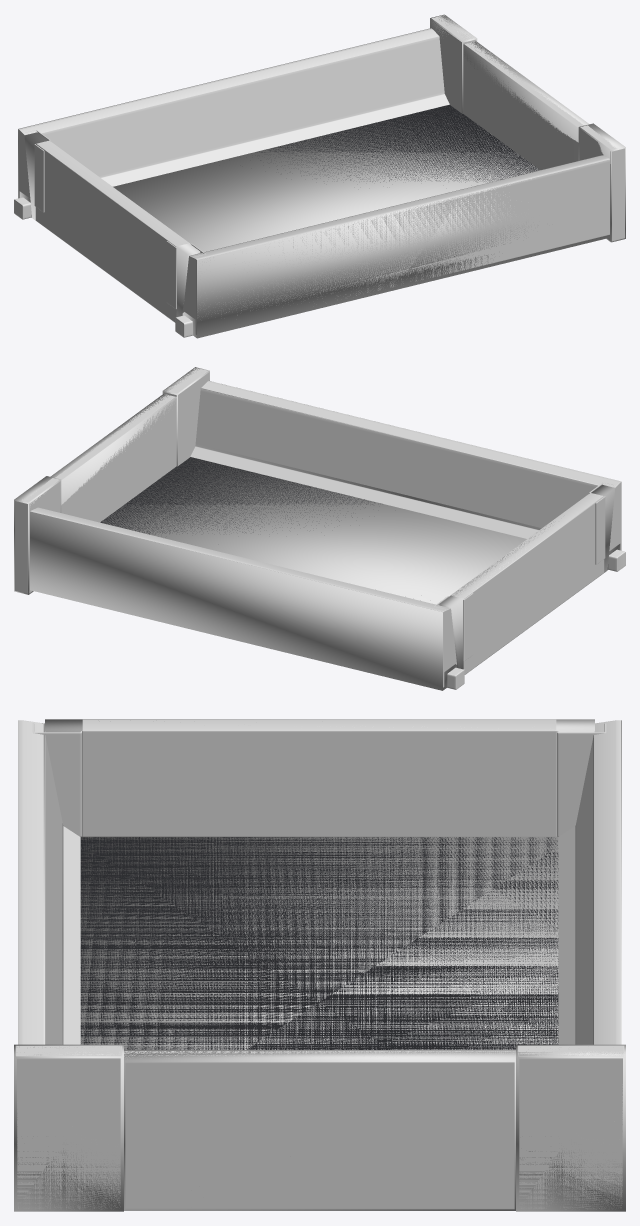
File: Kitchen02Drawer01.fbx
The picture shows the model from 3 angles, top to bottom: view 1: azimuth 30°, elevation 25°; view 2: azimuth 150°, elevation 25°; view 3: azimuth 270°, elevation 25°; orthographic projection. The views are drawn at different scales.
Visible parts, largest first — view 1: Kitchen02Drawer_01, Kitchen02Drawe01UCX_Kitchen_02_Drawer_01_006, Kitchen02Drawe01UCX_Kitchen_02_Drawer_01_005, Kitchen02Drawe01UCX_Kitchen_02_Drawer_01_001, Kitchen02Drawe01UCX_Kitchen_02_Drawer_01_003, Kitchen02Drawe01UCX_Kitchen_02_Drawer_01_004, Kitchen02Drawe01UCX_Kitchen_02_Drawer_01_002, Kitchen02Drawe01UCX_Kitchen_02_Drawer_01_007; view 2: Kitchen02Drawer_01, Kitchen02Drawe01UCX_Kitchen_02_Drawer_01_007, Kitchen02Drawe01UCX_Kitchen_02_Drawer_01_006, Kitchen02Drawe01UCX_Kitchen_02_Drawer_01_001, Kitchen02Drawe01UCX_Kitchen_02_Drawer_01_003, Kitchen02Drawe01UCX_Kitchen_02_Drawer_01_005, Kitchen02Drawe01UCX_Kitchen_02_Drawer_01_002; view 3: Kitchen02Drawer_01, Kitchen02Drawe01UCX_Kitchen_02_Drawer_01_006, Kitchen02Drawe01UCX_Kitchen_02_Drawer_01_001, Kitchen02Drawe01UCX_Kitchen_02_Drawer_01_002, Kitchen02Drawe01UCX_Kitchen_02_Drawer_01_004, Kitchen02Drawe01UCX_Kitchen_02_Drawer_01_003, Kitchen02Drawe01UCX_Kitchen_02_Drawer_01_005.
Part boxes in pixels (x1=…): Kitchen02Drawer_01: x1=14, y1=15, x2=624, y2=337; Kitchen02Drawe01UCX_Kitchen_02_Drawer_01_006: x1=113, y1=107, x2=539, y2=252; Kitchen02Drawe01UCX_Kitchen_02_Drawer_01_005: x1=182, y1=155, x2=609, y2=338; Kitchen02Drawe01UCX_Kitchen_02_Drawer_01_001: x1=463, y1=41, x2=589, y2=142; Kitchen02Drawe01UCX_Kitchen_02_Drawer_01_003: x1=24, y1=132, x2=200, y2=317; Kitchen02Drawe01UCX_Kitchen_02_Drawer_01_004: x1=578, y1=123, x2=625, y2=242; Kitchen02Drawe01UCX_Kitchen_02_Drawer_01_002: x1=430, y1=14, x2=477, y2=113; Kitchen02Drawe01UCX_Kitchen_02_Drawer_01_007: x1=18, y1=28, x2=430, y2=217; Kitchen02Drawer_01: x1=15, y1=368, x2=625, y2=689; Kitchen02Drawe01UCX_Kitchen_02_Drawer_01_007: x1=30, y1=511, x2=457, y2=690; Kitchen02Drawe01UCX_Kitchen_02_Drawer_01_006: x1=100, y1=457, x2=526, y2=604; Kitchen02Drawe01UCX_Kitchen_02_Drawer_01_001: x1=50, y1=394, x2=176, y2=504; Kitchen02Drawe01UCX_Kitchen_02_Drawer_01_003: x1=439, y1=484, x2=615, y2=670; Kitchen02Drawe01UCX_Kitchen_02_Drawer_01_005: x1=195, y1=388, x2=620, y2=569; Kitchen02Drawe01UCX_Kitchen_02_Drawer_01_002: x1=14, y1=476, x2=61, y2=594; Kitchen02Drawer_01: x1=15, y1=719, x2=624, y2=1209; Kitchen02Drawe01UCX_Kitchen_02_Drawer_01_006: x1=80, y1=836, x2=558, y2=1049; Kitchen02Drawe01UCX_Kitchen_02_Drawer_01_001: x1=124, y1=1050, x2=515, y2=1210; Kitchen02Drawe01UCX_Kitchen_02_Drawer_01_002: x1=516, y1=1044, x2=625, y2=1211; Kitchen02Drawe01UCX_Kitchen_02_Drawer_01_004: x1=14, y1=1044, x2=123, y2=1211; Kitchen02Drawe01UCX_Kitchen_02_Drawer_01_003: x1=45, y1=719, x2=594, y2=732; Kitchen02Drawe01UCX_Kitchen_02_Drawer_01_005: x1=42, y1=723, x2=63, y2=1044.
Size of the model in its own units: 50.29 by 36.2 by 10.1.
Materials: 3 (1 with a texture image).
